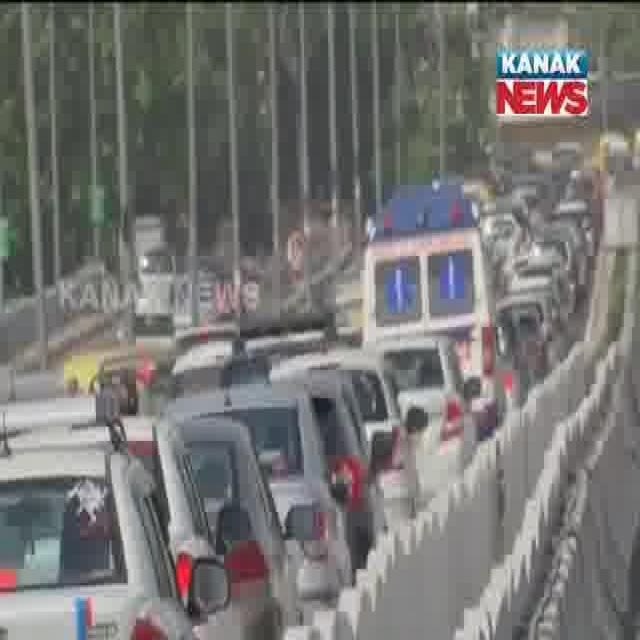ambulance: (356, 180, 492, 337)
